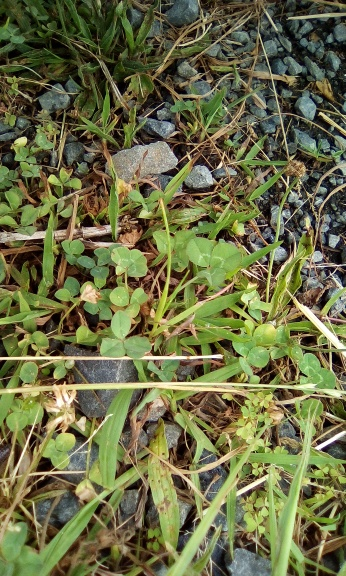4leaf: (111, 245, 149, 278)
